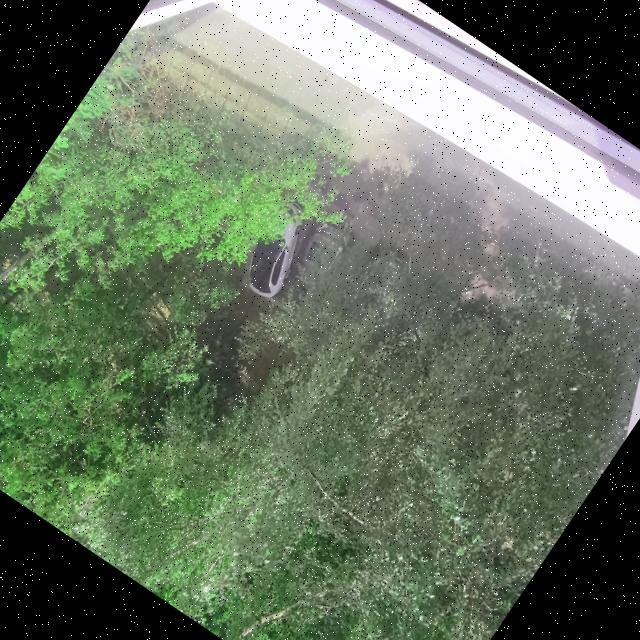car: (291, 219, 351, 294), (248, 221, 296, 304)
